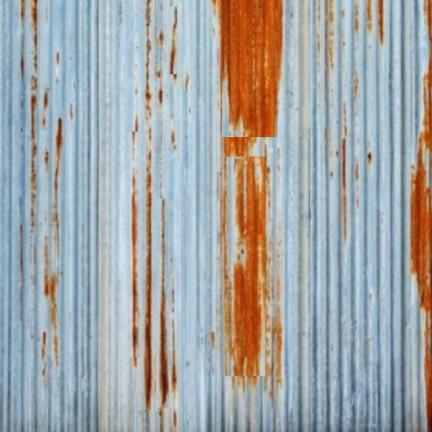karat: (221, 138, 267, 377), (221, 0, 282, 137), (411, 51, 431, 431), (144, 0, 153, 410), (160, 200, 168, 406), (131, 171, 139, 365)
